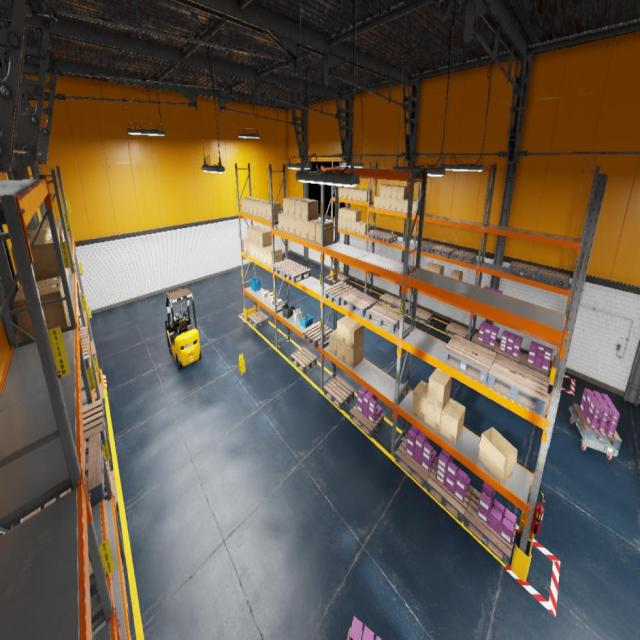box: (13, 284, 67, 340), (11, 238, 60, 286), (478, 428, 517, 483), (16, 276, 68, 316), (440, 398, 465, 444), (27, 227, 62, 258), (427, 368, 452, 410), (425, 398, 449, 432), (411, 379, 428, 422), (345, 321, 364, 349), (344, 342, 363, 368), (315, 220, 334, 244), (337, 316, 353, 344), (308, 218, 326, 242), (301, 200, 319, 222), (282, 196, 298, 216), (295, 199, 310, 218), (289, 198, 304, 217), (266, 202, 281, 221), (267, 247, 282, 266), (252, 199, 266, 216), (258, 230, 272, 247), (264, 246, 277, 264), (329, 328, 337, 356), (254, 228, 267, 245), (250, 226, 263, 243), (257, 201, 269, 218), (249, 199, 262, 214), (262, 202, 274, 218), (337, 339, 345, 362), (245, 198, 257, 213), (247, 225, 258, 241), (242, 197, 253, 212), (62, 259, 68, 285), (294, 218, 302, 237), (28, 234, 52, 240), (38, 222, 62, 228), (402, 200, 413, 213), (360, 222, 370, 235), (355, 221, 365, 234), (362, 189, 372, 202), (398, 187, 408, 200), (451, 269, 462, 280), (302, 220, 308, 240), (432, 264, 444, 274), (351, 210, 361, 222), (412, 200, 420, 215), (392, 186, 401, 199), (380, 185, 389, 198), (290, 216, 296, 235), (29, 231, 51, 236), (284, 215, 290, 233), (358, 189, 367, 201), (335, 186, 344, 198), (58, 227, 65, 242), (386, 185, 394, 198), (37, 224, 62, 228), (338, 208, 348, 218), (348, 209, 356, 221), (342, 208, 350, 220), (343, 187, 351, 199), (278, 212, 283, 231), (390, 198, 397, 211), (258, 246, 264, 261), (250, 242, 256, 257), (426, 262, 436, 271), (39, 220, 61, 224), (353, 189, 361, 200), (339, 187, 347, 198), (58, 229, 65, 241), (40, 218, 61, 222), (397, 200, 404, 212), (348, 188, 355, 199), (78, 309, 82, 328), (105, 506, 108, 530), (384, 198, 390, 210), (379, 197, 385, 209), (254, 244, 258, 260), (107, 524, 110, 544), (346, 220, 352, 230), (374, 196, 379, 208), (247, 241, 251, 255), (244, 238, 248, 252), (342, 219, 347, 230), (78, 305, 81, 323), (59, 232, 64, 242), (351, 222, 356, 232), (270, 292, 277, 299), (262, 291, 269, 297), (338, 218, 342, 228), (334, 218, 338, 228), (66, 268, 69, 281), (270, 298, 276, 304), (277, 299, 283, 304), (268, 292, 273, 298), (78, 304, 80, 314), (68, 270, 72, 273), (112, 572, 113, 578)
forklift: (166, 288, 202, 369)
pallets: (23, 432, 104, 522), (463, 488, 517, 566), (488, 354, 550, 414), (426, 459, 473, 523), (442, 334, 496, 383), (572, 403, 622, 449), (395, 435, 437, 488), (82, 399, 106, 455), (349, 403, 384, 437), (366, 303, 401, 333), (323, 376, 354, 409), (342, 290, 378, 317), (323, 282, 356, 306), (302, 322, 332, 348), (520, 354, 551, 376), (536, 268, 570, 288), (290, 347, 316, 373), (105, 470, 119, 512), (494, 342, 522, 363), (471, 332, 498, 352), (282, 264, 310, 283), (508, 262, 539, 279), (122, 559, 130, 622), (272, 260, 298, 276), (444, 322, 468, 339), (247, 310, 268, 328), (411, 307, 433, 324), (89, 561, 98, 598), (103, 452, 111, 492), (392, 299, 413, 314), (431, 245, 455, 258), (452, 251, 476, 264), (81, 341, 91, 372), (416, 240, 438, 253), (379, 294, 398, 307), (378, 233, 397, 243), (80, 327, 88, 350), (367, 230, 385, 240), (347, 628, 362, 639), (334, 273, 350, 283), (100, 382, 106, 406), (395, 274, 410, 283), (91, 340, 96, 360), (95, 396, 95, 402)
